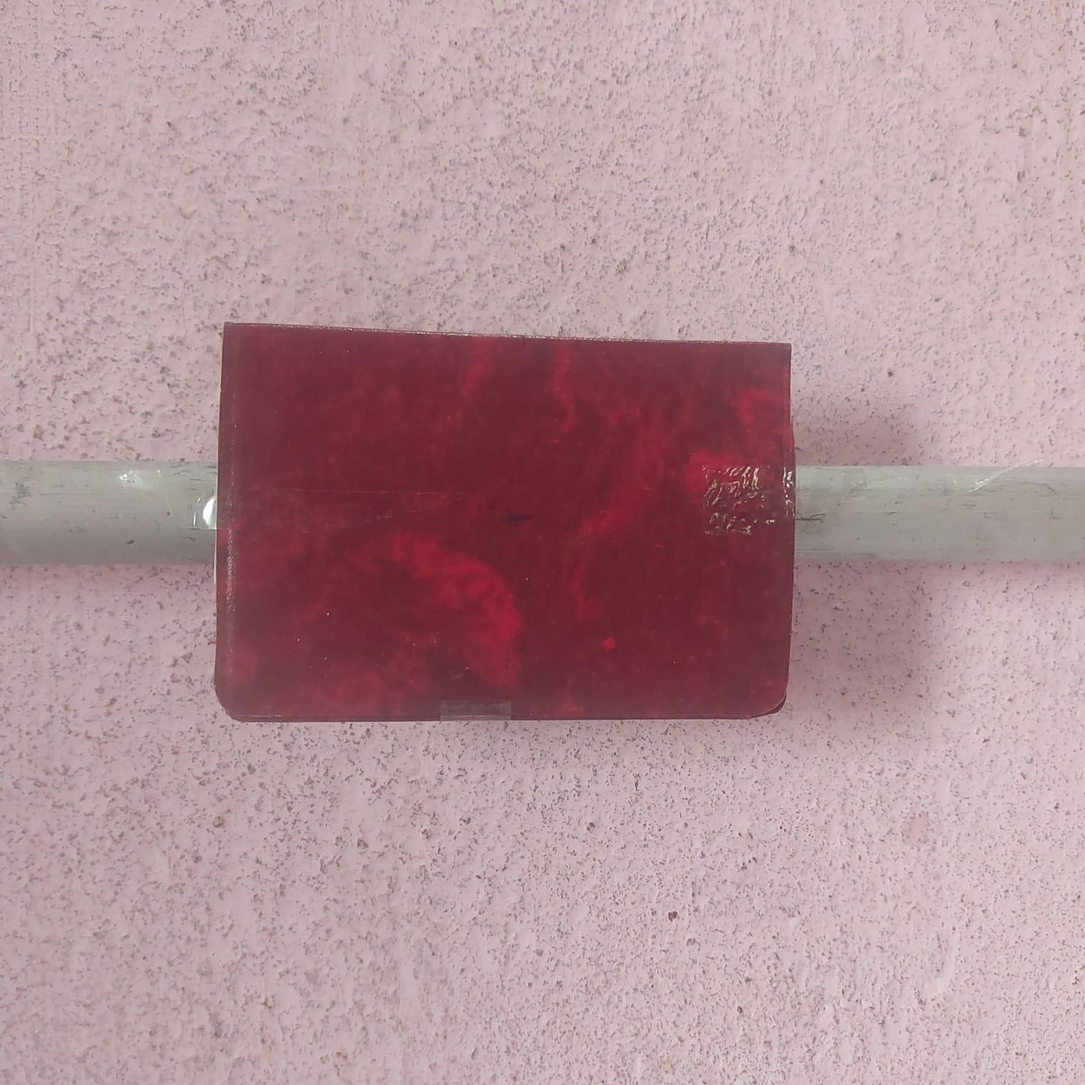wallet: (216, 323, 793, 722)
